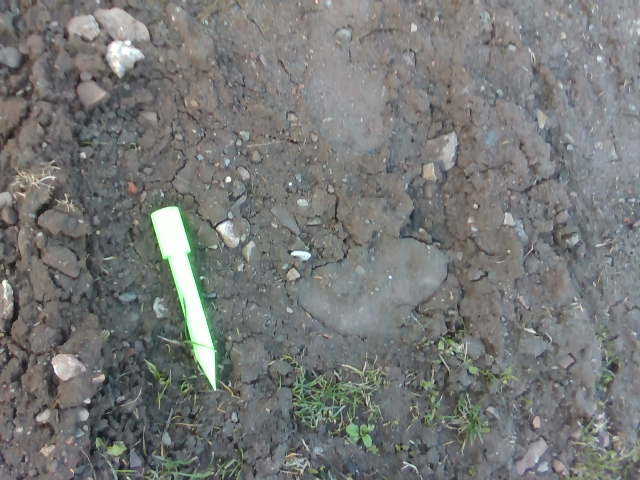Probe: (140, 200, 226, 395)
